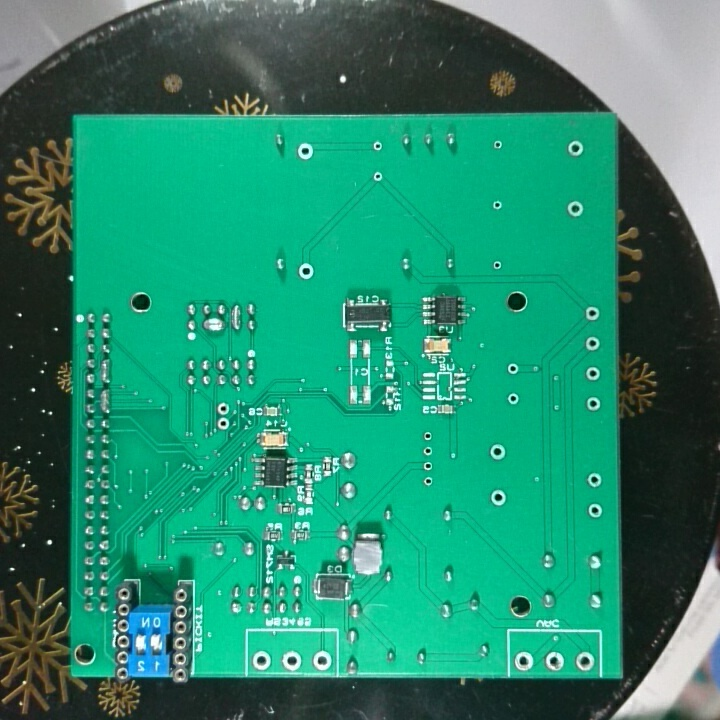F: (279, 647, 305, 675), (542, 649, 568, 675), (309, 647, 334, 672), (294, 140, 317, 166), (250, 648, 274, 672), (572, 650, 597, 673), (581, 332, 605, 355), (512, 649, 535, 673), (488, 486, 509, 509), (564, 198, 585, 220), (297, 260, 317, 283), (488, 441, 508, 464), (582, 364, 603, 385), (565, 138, 585, 160), (585, 470, 605, 492), (585, 500, 605, 522), (582, 304, 604, 323), (583, 394, 601, 415), (488, 197, 506, 215), (214, 417, 233, 434), (213, 400, 233, 416), (505, 391, 522, 409), (419, 458, 437, 475), (419, 473, 436, 490), (419, 443, 437, 458), (370, 138, 385, 155), (491, 257, 506, 274), (505, 361, 520, 378), (491, 137, 505, 154), (371, 167, 383, 186), (421, 429, 435, 444)
P: (98, 356, 115, 386), (200, 315, 228, 332), (98, 386, 114, 415), (229, 300, 243, 332)
